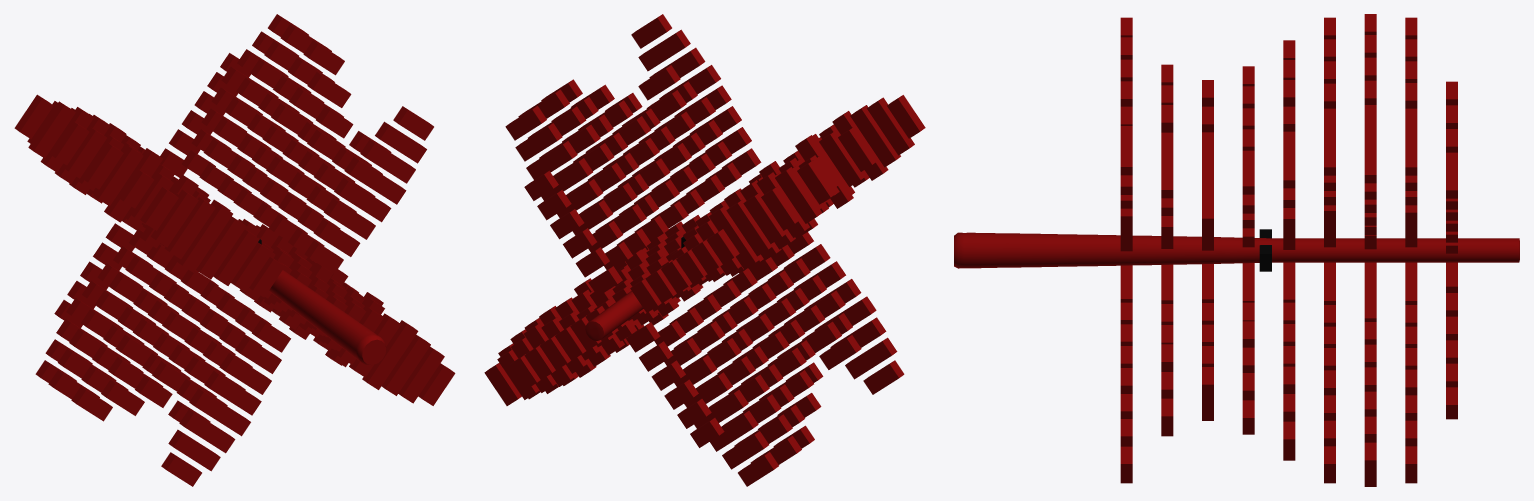
The model's file is pyramids_mobile_merged.glb.
3 renders of one model, left to right at view 1: azimuth 30°, elevation 25°; view 2: azimuth 150°, elevation 25°; view 3: azimuth 270°, elevation 25°, orthographic. The views are drawn at different scales.
Parts seen in each view (by area): view 1: PyramidsMerged; view 2: PyramidsMerged; view 3: PyramidsMerged.
Boxes of the visible parts, x1,y1,x2,y2 form: PyramidsMerged: [14, 14, 455, 486]; PyramidsMerged: [484, 14, 925, 486]; PyramidsMerged: [954, 14, 1519, 486].
Size of the model in its own units: 344 by 344 by 466.
